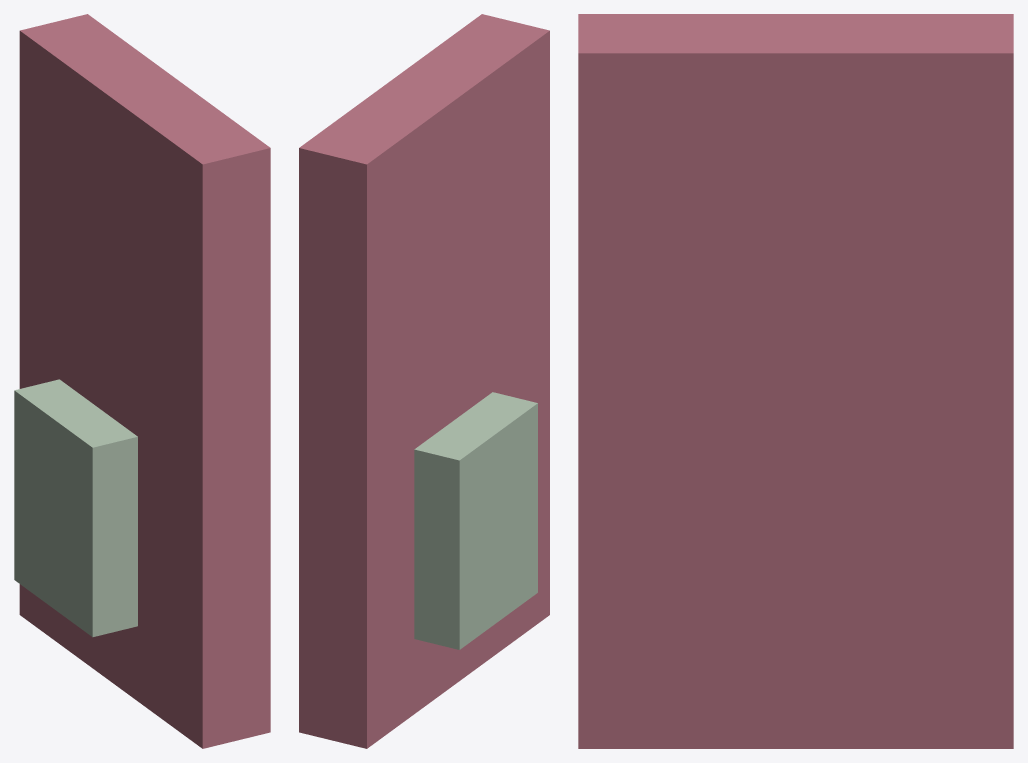
Rendered from 199506_pred.glb.
The picture shows the model from 3 angles, left to right: view 1: azimuth 30°, elevation 25°; view 2: azimuth 150°, elevation 25°; view 3: azimuth 270°, elevation 25°; orthographic projection. The views are drawn at different scales.
Parts seen in each view (by area): view 1: world; view 2: world; view 3: world.
Part boxes in pixels (x1,y1,x2,y2): world: (14, 14, 270, 748); world: (299, 14, 549, 748); world: (578, 14, 1013, 748).
Size of the model in its own units: 1.55 by 7.4 by 4.2.
